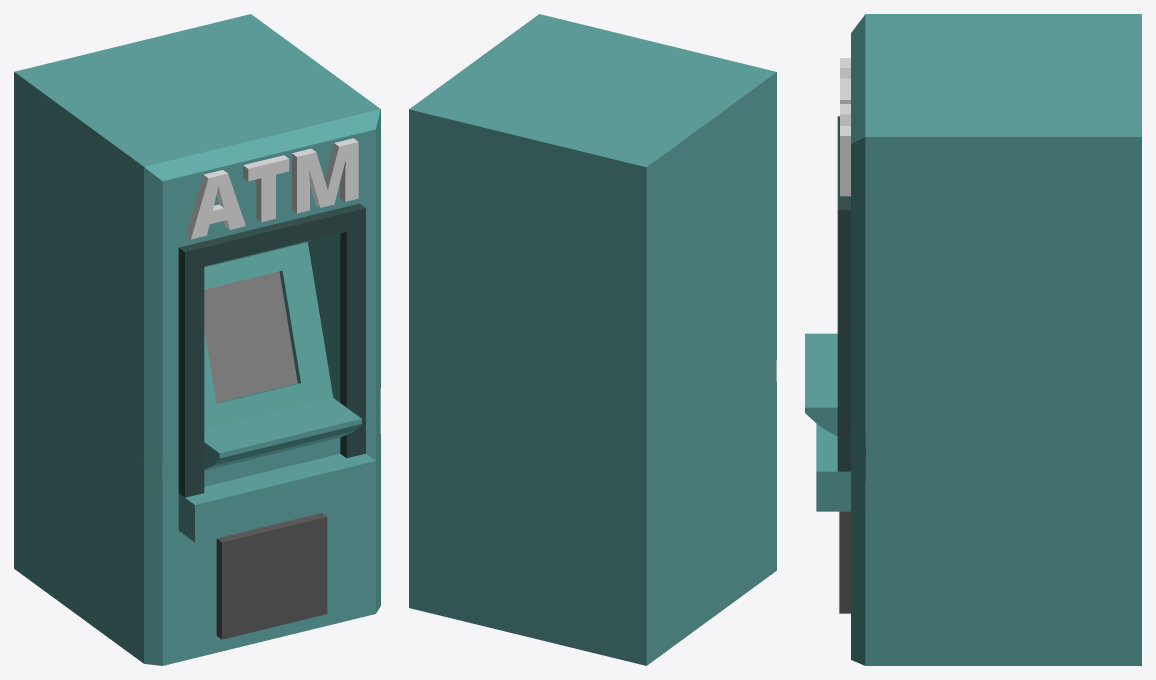
File: 37 ATM.fbx
The picture shows the model from 3 angles, left to right: view 1: azimuth 30°, elevation 25°; view 2: azimuth 150°, elevation 25°; view 3: azimuth 270°, elevation 25°; orthographic projection. The views are drawn at different scales.
Visible parts, largest first — view 1: ATM; view 2: ATM; view 3: ATM.
Part boxes in pixels (x1=…): ATM: x1=14, y1=14, x2=380, y2=665; ATM: x1=409, y1=14, x2=776, y2=665; ATM: x1=805, y1=14, x2=1141, y2=665.
Size of the model in its own units: 18.67 by 37.43 by 21.61.
